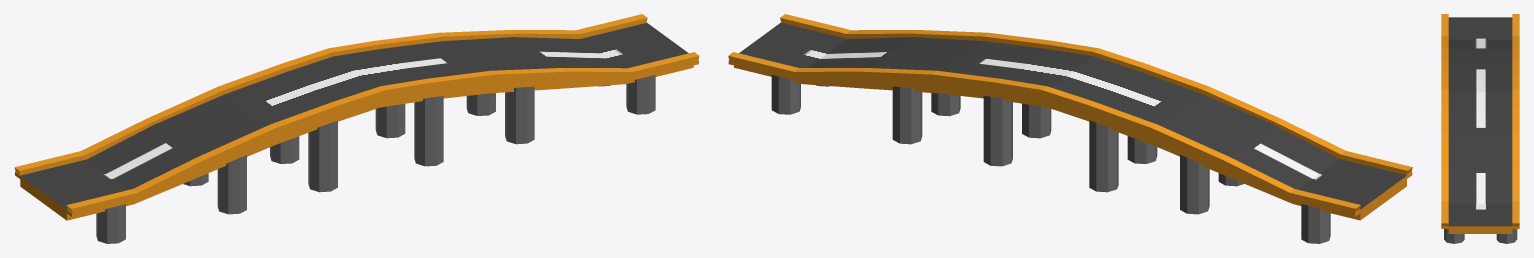
The model's file is Bridge.fbx.
3 renders of one model, left to right at view 1: azimuth 30°, elevation 25°; view 2: azimuth 150°, elevation 25°; view 3: azimuth 270°, elevation 25°, orthographic. The views are drawn at different scales.
Parts seen in each view (by area): view 1: Bridge, Road; view 2: Bridge, Road; view 3: Road, Bridge.
Boxes of the visible parts, left/top/right/bottom form: Bridge: left=14, top=14, right=699, bottom=243; Road: left=20, top=23, right=688, bottom=209; Bridge: left=728, top=14, right=1412, bottom=243; Road: left=739, top=22, right=1406, bottom=209; Road: left=1448, top=17, right=1512, bottom=226; Bridge: left=1441, top=14, right=1519, bottom=243.
Size of the model in its own units: 7763 by 1062 by 1222.
